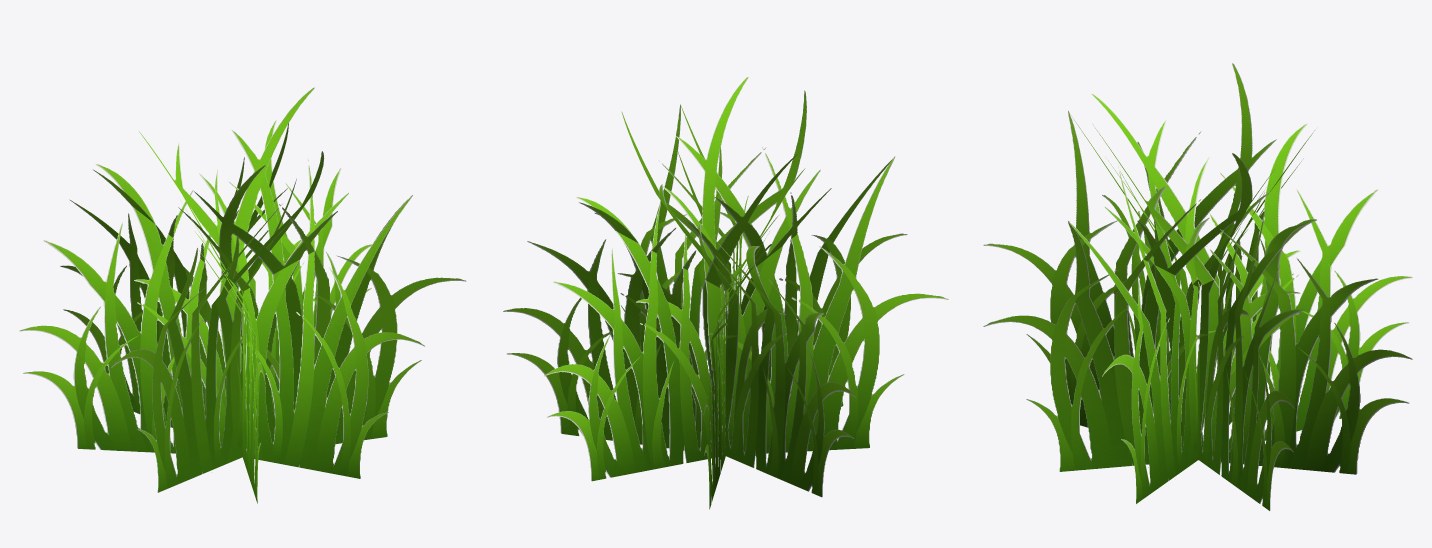
The model's file is grassV2 1.fbx.
3 views of the same model, side by side, from view 1: azimuth 30°, elevation 25°; view 2: azimuth 150°, elevation 25°; view 3: azimuth 270°, elevation 25° (orthographic). The views are drawn at different scales.
Parts seen in each view (by area): view 1: Plane.001; view 2: Plane.001; view 3: Plane.001.
Boxes of the visible parts, box(x1,y1,x2,y2) form: Plane.001: box(19, 87, 466, 503); Plane.001: box(503, 77, 948, 509); Plane.001: box(983, 63, 1412, 510).
Bounding box in the file's own units: 14.78 × 13.85 × 14.73.
